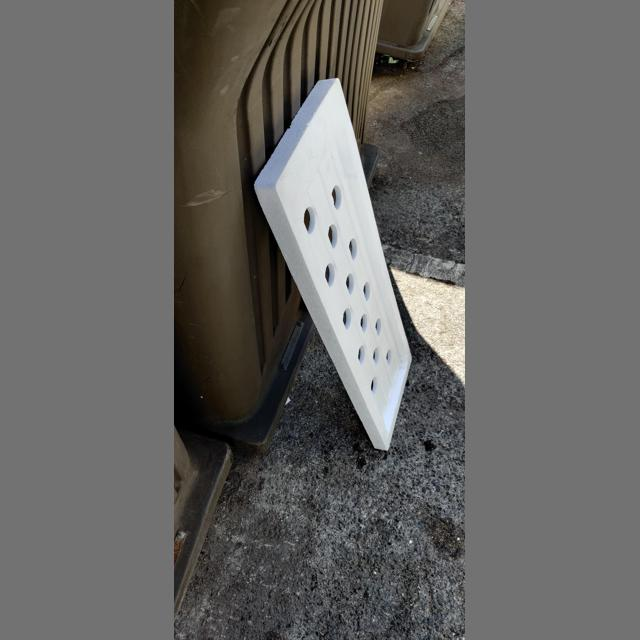litter: (254, 78, 413, 450)
